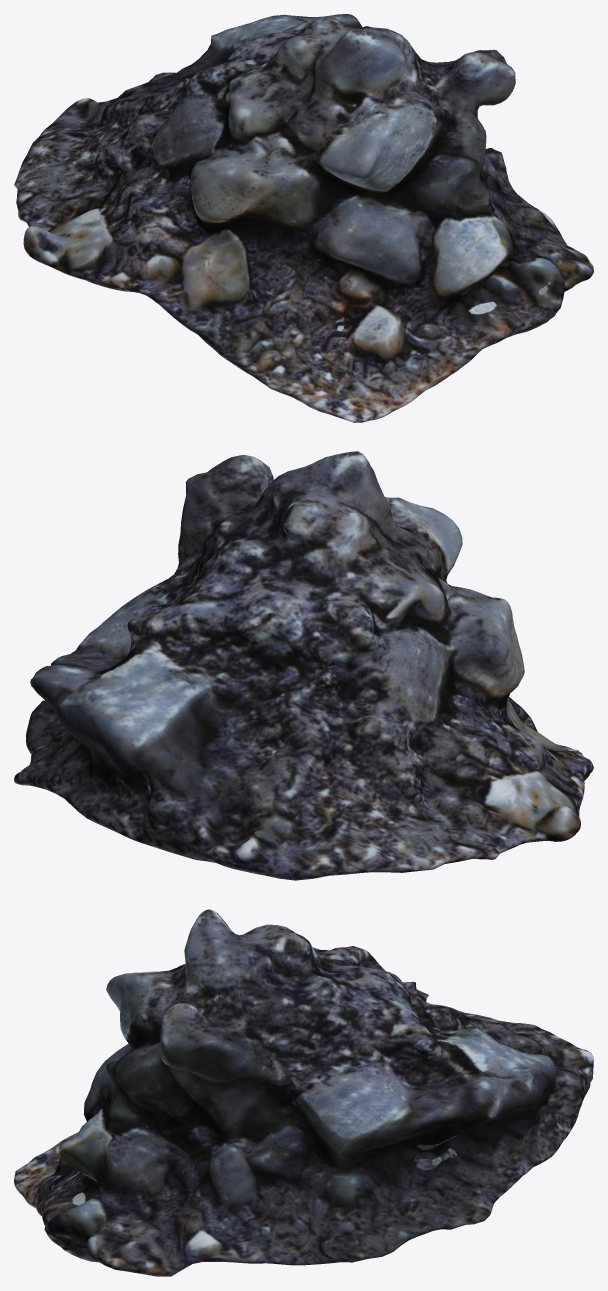
File: Rubble 1.fbx
3 renders of one model, top to bottom at view 1: azimuth 30°, elevation 25°; view 2: azimuth 150°, elevation 25°; view 3: azimuth 270°, elevation 25°, orthographic. The views are drawn at different scales.
Visible parts, largest first — view 1: mesh; view 2: mesh; view 3: mesh.
Part boxes in pixels (left/top/right/bottom): mesh: left=14, top=14, right=593, bottom=422; mesh: left=14, top=451, right=593, bottom=880; mesh: left=14, top=909, right=593, bottom=1276.
Size of the model in its own units: 95.95 by 59.48 by 99.58.
